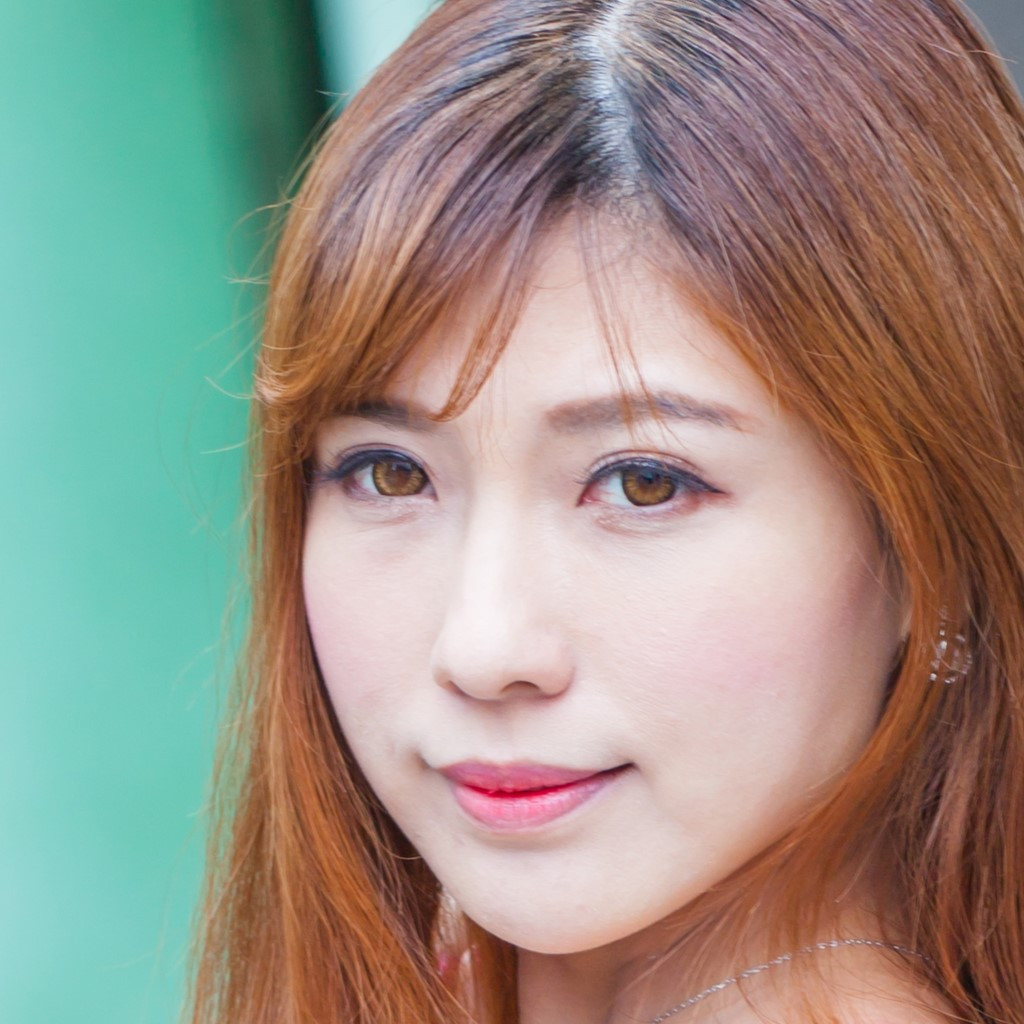sin_mascara: (281, 144, 907, 944)
